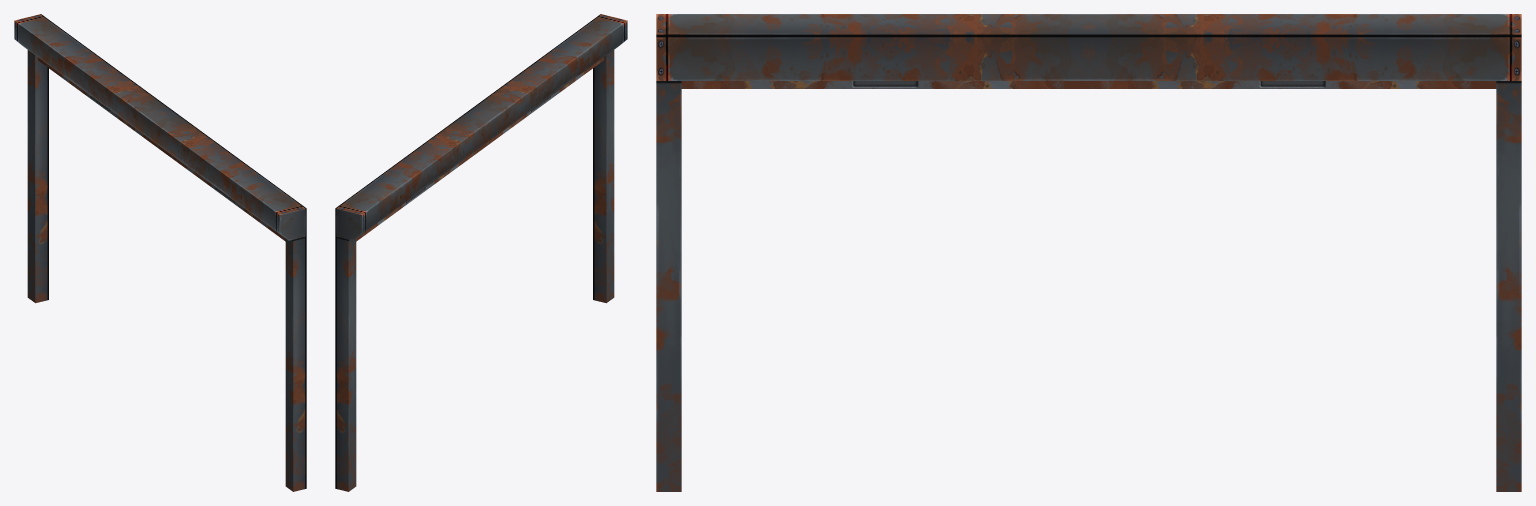
Rendered from rollerShutter05_6m.fbx.
3 views of the same model, side by side, from view 1: azimuth 30°, elevation 25°; view 2: azimuth 150°, elevation 25°; view 3: azimuth 270°, elevation 25° (orthographic). The views are drawn at different scales.
Parts seen in each view (by area): view 1: rollerShutter05_6m; view 2: rollerShutter05_6m; view 3: rollerShutter05_6m.
Part boxes in pixels (x1,y1,x2,y2): rollerShutter05_6m: (14, 14, 306, 491); rollerShutter05_6m: (335, 14, 627, 491); rollerShutter05_6m: (656, 14, 1521, 491).
Bounding box in the file's own units: 30 × 300 × 515.
